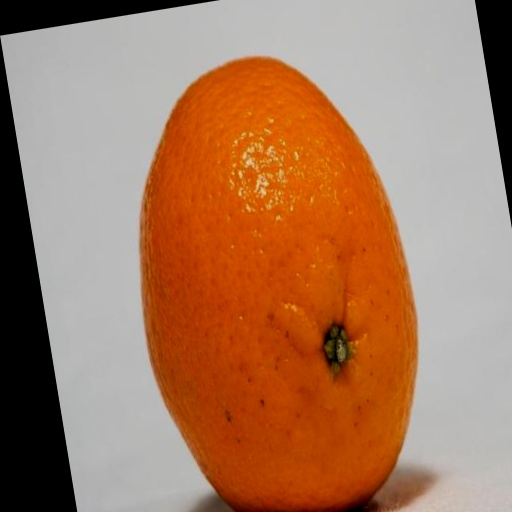fruit: (140, 58, 417, 512)
